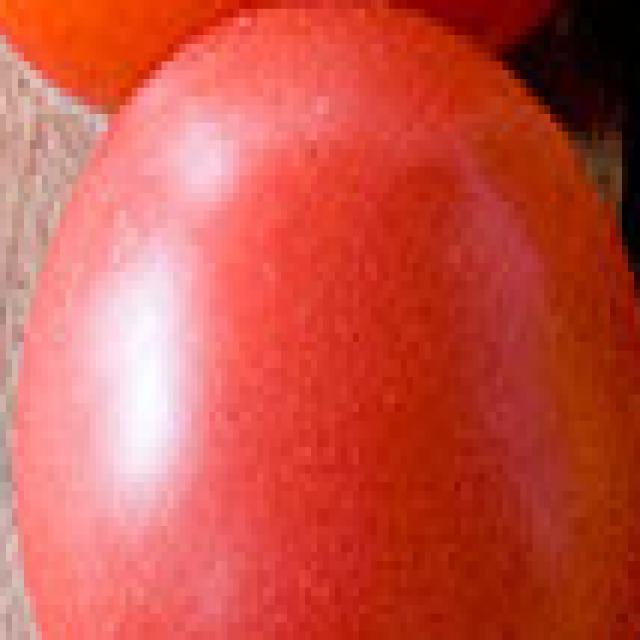Orange: (0, 9, 640, 640)
